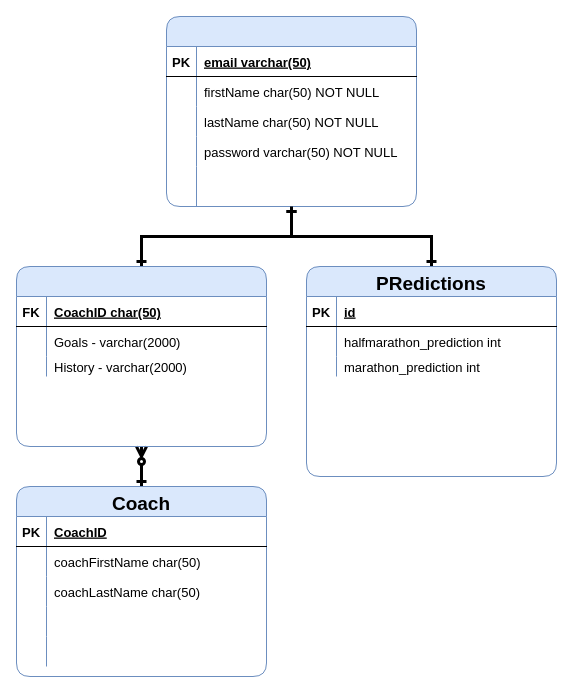
This 573x693 diagram has some shape labels left out. The shapes that lost their labels are listed below. From the top down, each one's box as (x1, y1, x2, y2) in pixels, then its label:
(166, 16, 416, 206): User
(16, 266, 266, 446): UserStats
